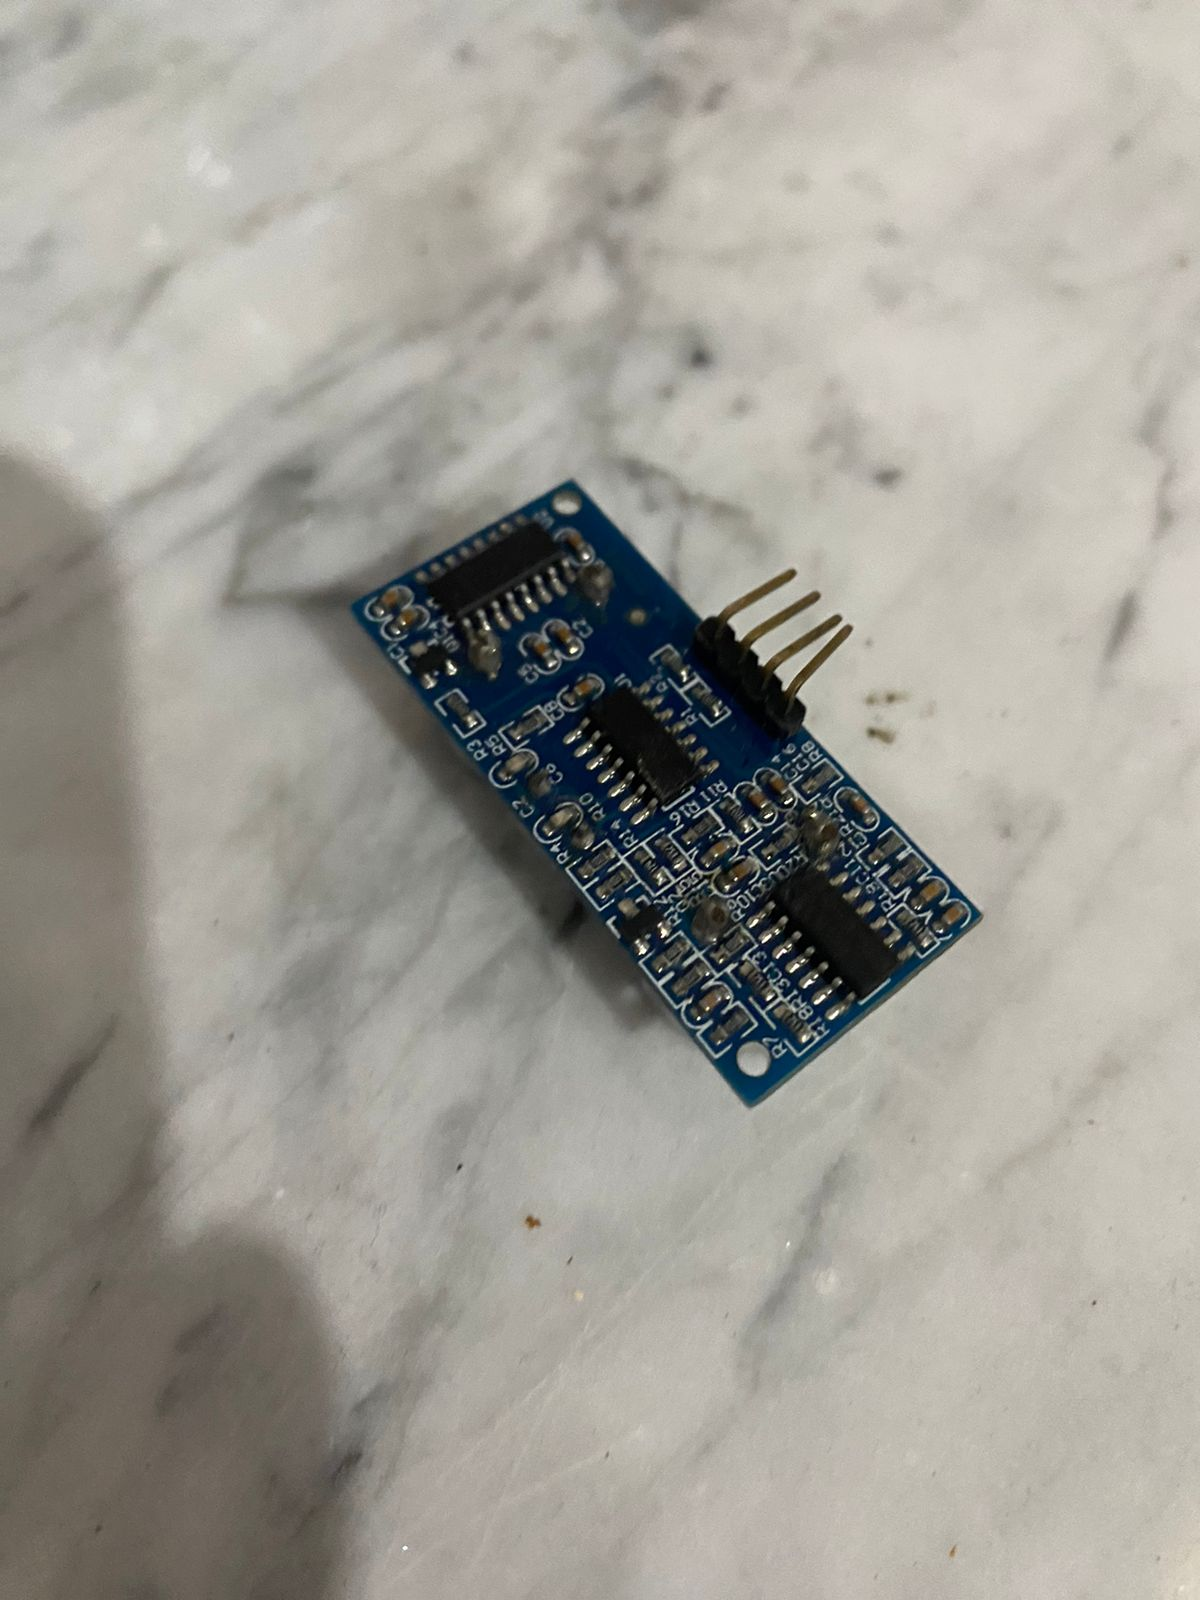capteur-ultrasonique: (353, 472, 974, 1112)
